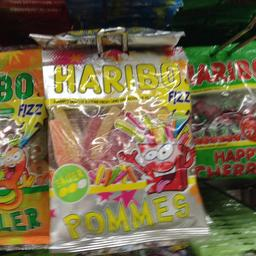candy: (38, 40, 204, 245), (176, 36, 255, 190), (0, 40, 53, 243)
